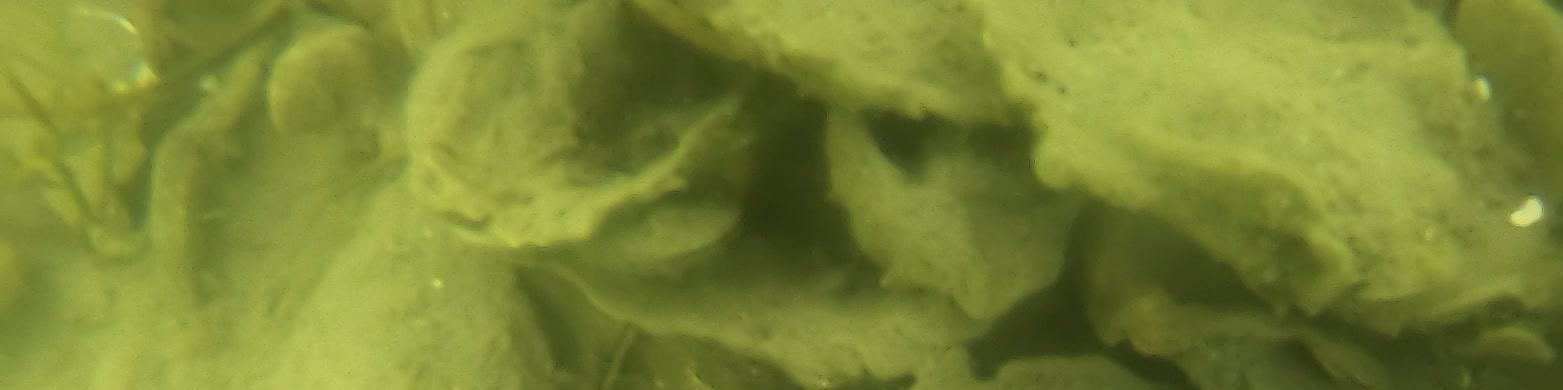3: (265, 192, 599, 390), (578, 196, 745, 278)
Oyster-Closed: (981, 0, 1563, 318), (635, 0, 1028, 124), (1454, 0, 1563, 198)
Oyster-Open: (533, 238, 977, 382), (826, 109, 1086, 319), (269, 32, 381, 132)
